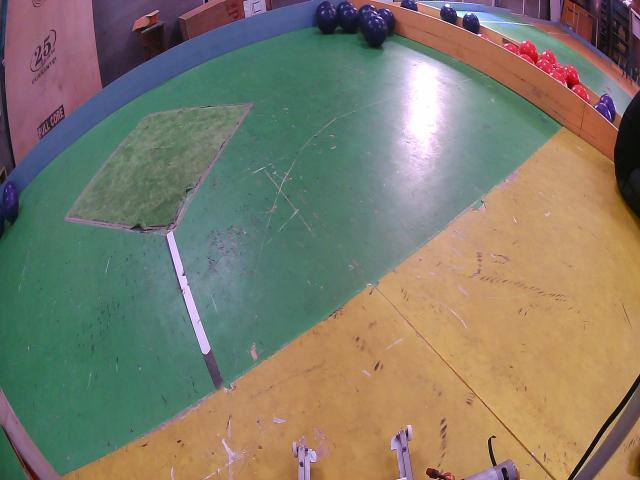jambhalya: (600, 93, 616, 121), (595, 102, 612, 122)
kaalyya: (362, 13, 388, 47), (316, 7, 339, 33), (339, 7, 359, 33), (378, 8, 395, 34), (360, 8, 378, 29), (440, 3, 458, 24), (462, 13, 480, 33), (316, 0, 335, 14), (359, 3, 376, 17), (336, 0, 352, 14), (401, 0, 418, 12)
